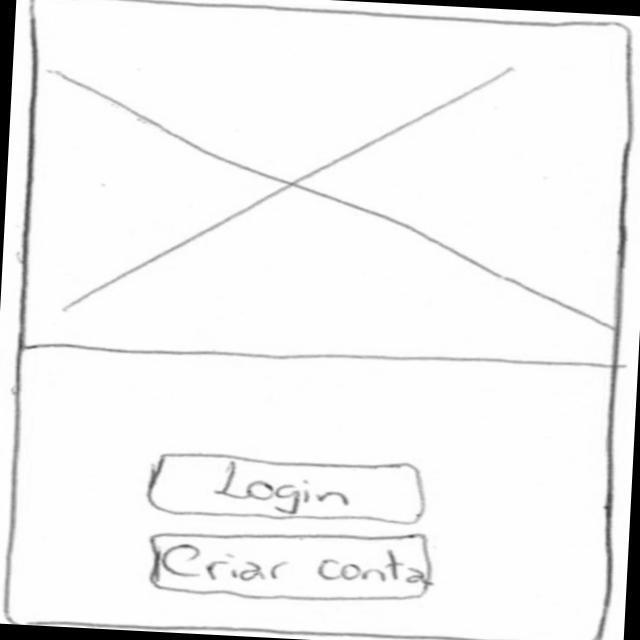button: (149, 520, 440, 612), (142, 447, 440, 531)
container: (1, 336, 630, 640)
image: (7, 1, 640, 377)
